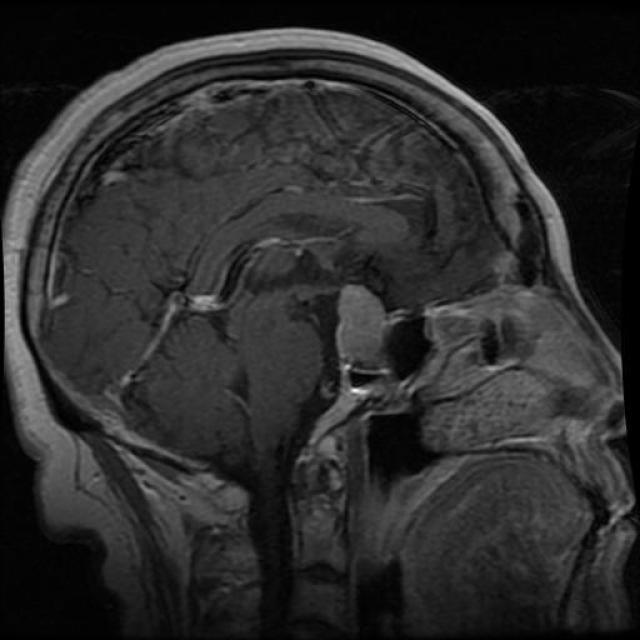pituitary: (314, 274, 393, 378)
